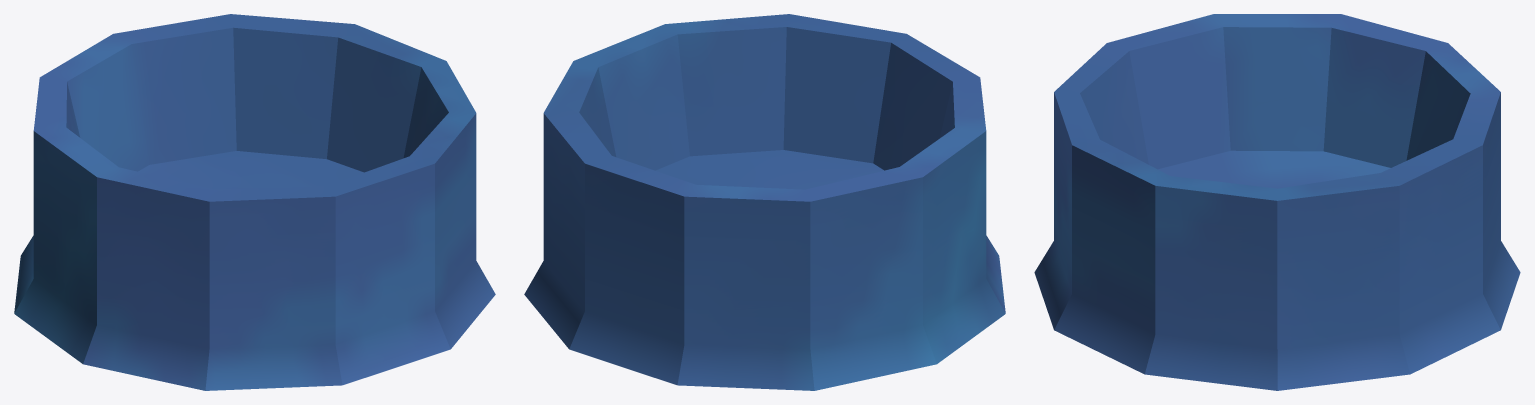
File: food_bowl.fbx
3 views of the same model, side by side, from view 1: azimuth 30°, elevation 25°; view 2: azimuth 150°, elevation 25°; view 3: azimuth 270°, elevation 25° (orthographic).
Parts seen in each view (by area): view 1: food_bowl; view 2: food_bowl; view 3: food_bowl.
Boxes of the visible parts, box(x1,y1,x2,y2) form: food_bowl: box(14, 14, 495, 390); food_bowl: box(524, 14, 1005, 390); food_bowl: box(1034, 14, 1520, 390).
Size of the model in its own units: 0.0869 by 0.0362 by 0.0878.
